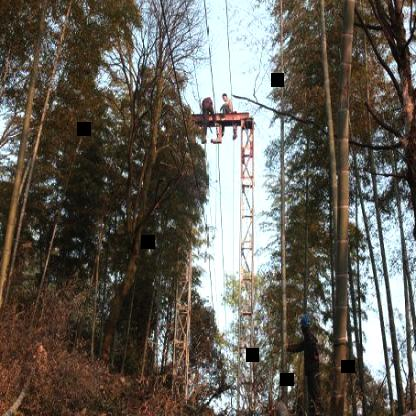helmet: (300, 312, 314, 335)
